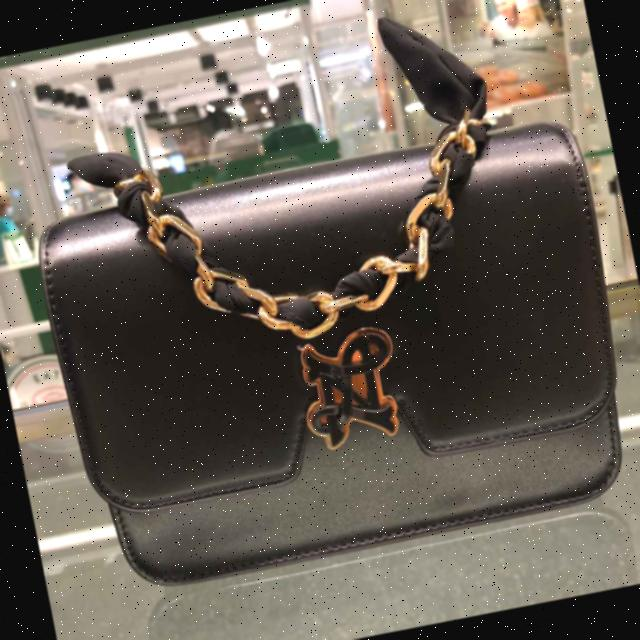handbag: (14, 92, 640, 605)
